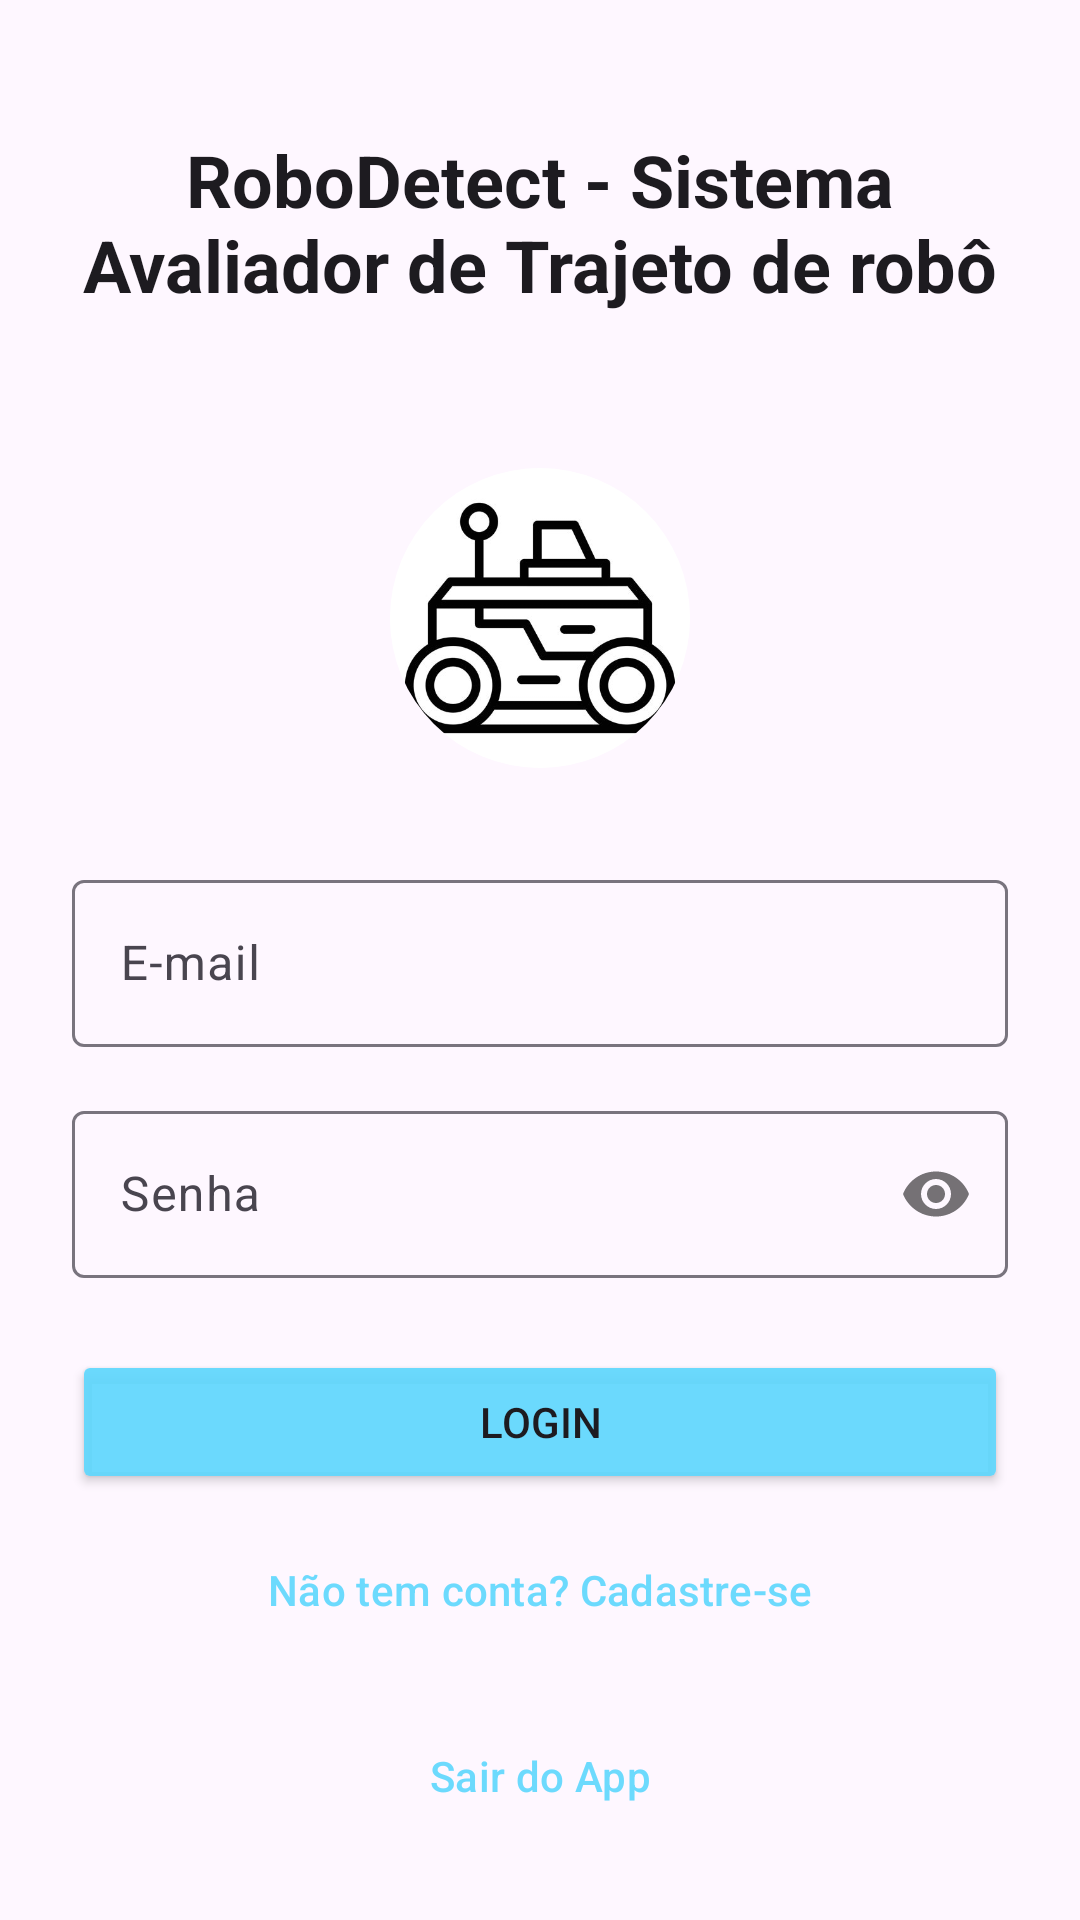

Icons on this 1080*1920 Android screen, each with its box as (x1, y1, x2, y2):
robot: (405, 502, 675, 734)
